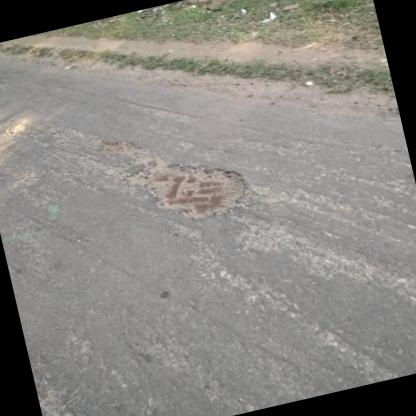pothole: (128, 142, 254, 234), (98, 134, 138, 161)
